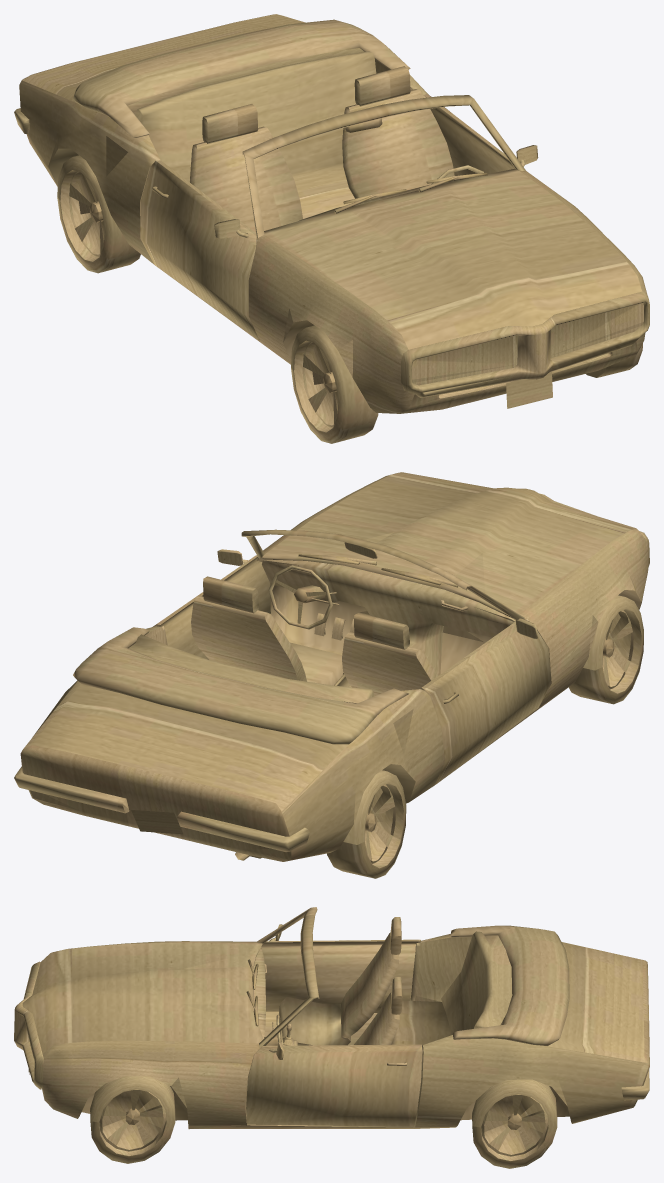
Rendered from Car1.obj.
The picture shows the model from 3 angles, top to bottom: view 1: azimuth 30°, elevation 25°; view 2: azimuth 150°, elevation 25°; view 3: azimuth 270°, elevation 25°; orthographic projection. The views are drawn at different scales.
Parts seen in each view (by area): view 1: DrawCall_2; view 2: DrawCall_2; view 3: DrawCall_2.
Part boxes in pixels (<box>): DrawCall_2: <box>14,14,649,443</box>; DrawCall_2: <box>14,472,649,878</box>; DrawCall_2: <box>14,907,649,1168</box>.
Size of the model in its own units: 671 by 422 by 1421.
